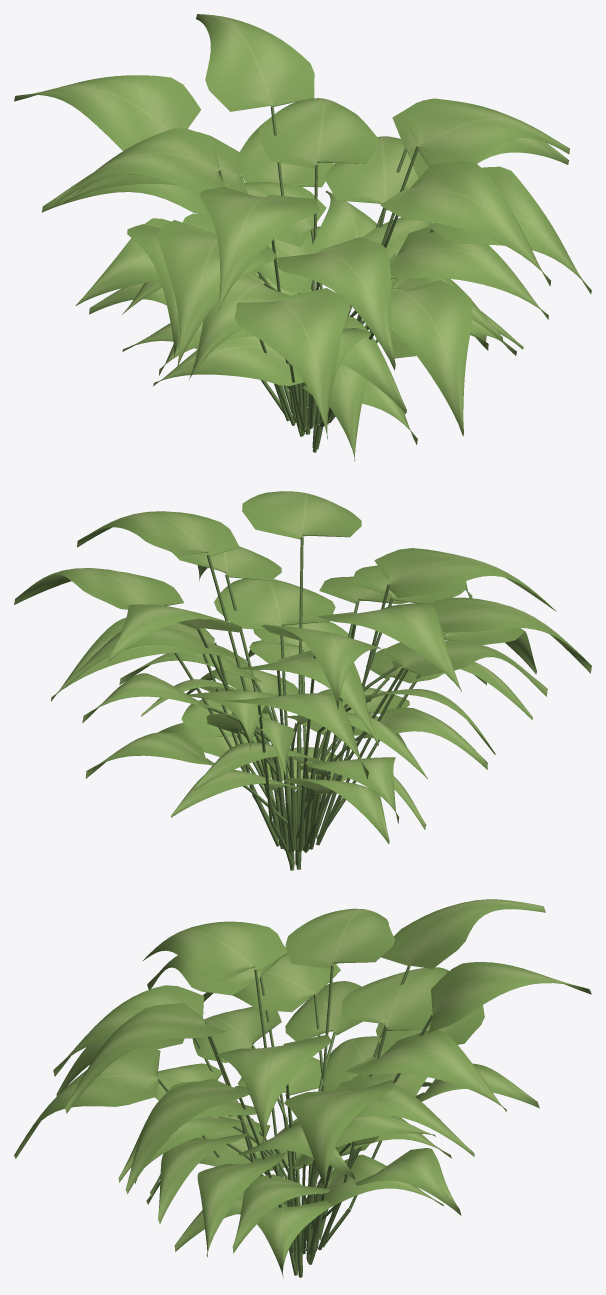
File: syngonium-stage-7.glb
The picture shows the model from 3 angles, top to bottom: view 1: azimuth 30°, elevation 25°; view 2: azimuth 150°, elevation 25°; view 3: azimuth 270°, elevation 25°; orthographic projection. The views are drawn at different scales.
Parts seen in each view (by area): view 1: Leaf_38, Leaf_26, Leaf_37, Leaf_41, Leaf_29, Leaf_30, Leaf_40, Leaf_34, Leaf_39, Leaf_31, Leaf_36, Leaf_24 (+22 smaller); view 2: PlantBranches, Leaf_24, Leaf_39, Leaf_37, Leaf_40, Leaf_36, Leaf_35, Leaf_31, Leaf_41, Leaf_38, Leaf_25, Leaf_28 (+30 smaller); view 3: PlantBranches, Leaf_39, Leaf_36, Leaf_41, Leaf_33, Leaf_30, Leaf_38, Leaf_37, Leaf_29, Leaf_35, Leaf_40, Leaf_32 (+27 smaller).
Part boxes in pixels (x1,y1,x2,y2): Leaf_38: [196, 14, 314, 111]; Leaf_26: [234, 288, 350, 439]; Leaf_37: [380, 161, 550, 286]; Leaf_41: [14, 75, 200, 150]; Leaf_29: [390, 280, 472, 436]; Leaf_30: [258, 98, 378, 168]; Leaf_40: [400, 98, 569, 166]; Leaf_34: [277, 237, 395, 370]; Leaf_39: [199, 187, 319, 311]; Leaf_31: [157, 220, 276, 367]; Leaf_36: [55, 128, 225, 203]; Leaf_24: [389, 227, 548, 319]; PlantBranches: [174, 537, 445, 870]; Leaf_24: [214, 578, 335, 630]; Leaf_39: [374, 548, 556, 611]; Leaf_37: [242, 491, 361, 539]; Leaf_40: [77, 511, 239, 556]; Leaf_36: [318, 602, 461, 691]; Leaf_35: [14, 568, 183, 609]; Leaf_31: [430, 597, 591, 673]; Leaf_41: [261, 624, 380, 709]; Leaf_38: [108, 604, 241, 662]; Leaf_25: [223, 693, 368, 779]; Leaf_28: [381, 640, 547, 696]; PlantBranches: [157, 965, 432, 1277]; Leaf_39: [143, 921, 287, 980]; Leaf_36: [285, 908, 394, 968]; Leaf_41: [381, 899, 545, 968]; Leaf_33: [341, 967, 448, 1030]; Leaf_30: [345, 1030, 506, 1112]; Leaf_38: [428, 962, 591, 1032]; Leaf_37: [65, 1003, 226, 1113]; Leaf_29: [14, 1047, 160, 1158]; Leaf_35: [284, 1080, 394, 1198]; Leaf_40: [217, 1034, 331, 1144]; Leaf_32: [125, 1079, 249, 1193].
Size of the model in its own units: 3.19 by 2.09 by 3.44.
2 materials, 1 textured.
